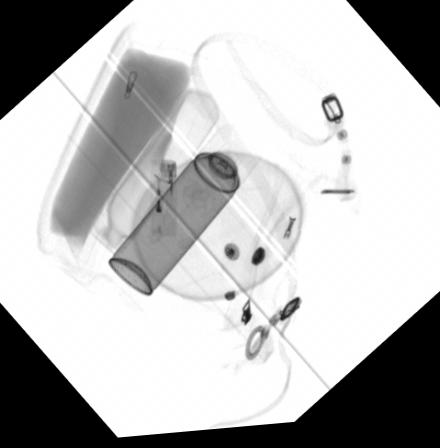Lighter: (149, 163, 176, 240)
Sprayer: (108, 127, 266, 298)
